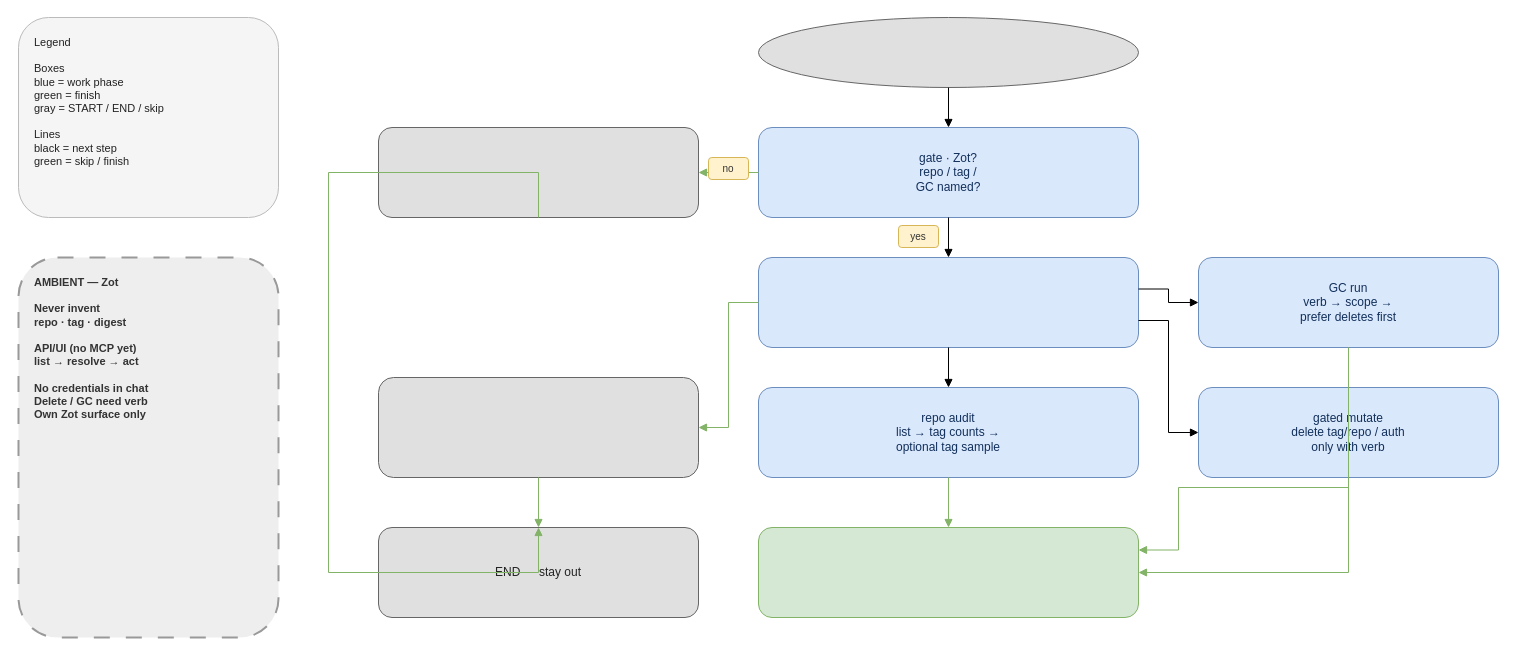
Image size: 1516x656. Some labels were removed from this diagram. Here are the shapes that lost their labels. From the top down, the centre of each, then its label:
point 948,52: START — user ask
point 538,172: skip — no Zot surface this turn
point 948,302: route · inventory vs GC vs gated mutate
point 538,427: refuse secrets gate delete/GC (zot-safety)
point 948,572: END — repo + tag (no secrets)
